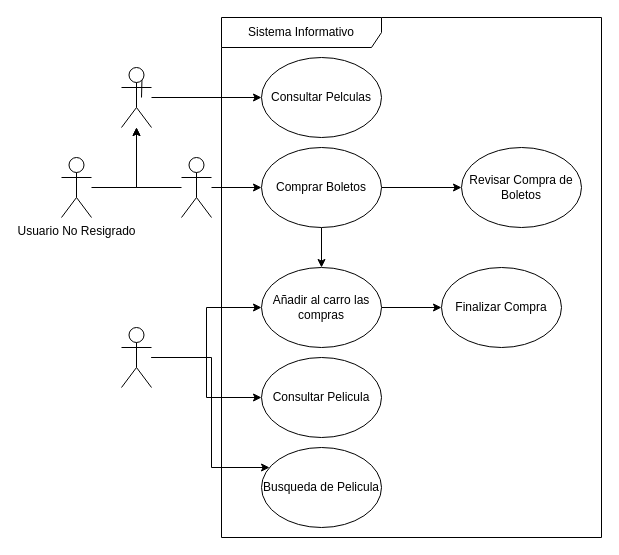
Image size: 619x555. Some labels were removed from this diagram. Here are the shapes that lost their labels. From the top down, the centre of each, then its label:
At point (136, 97): "Cliente".
At point (196, 187): "Usuario Registrado".
At point (136, 357): "Empleado".
